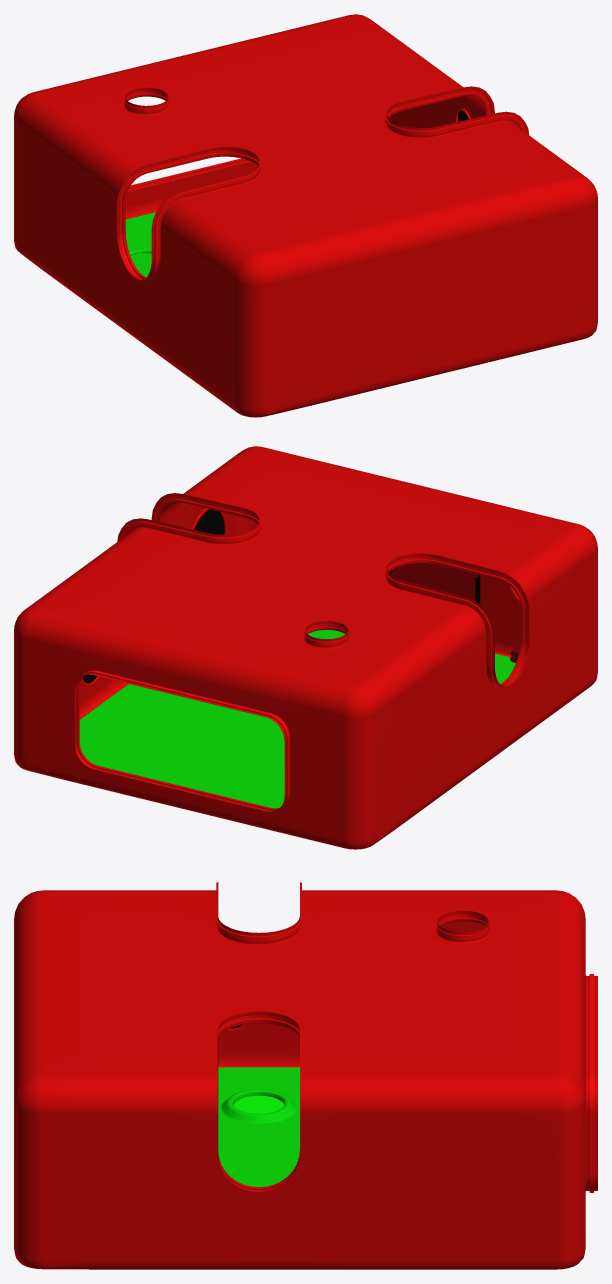
File: Room(noTable)_mesh.fbx
3 renders of one model, top to bottom at view 1: azimuth 30°, elevation 25°; view 2: azimuth 150°, elevation 25°; view 3: azimuth 270°, elevation 25°, orthographic. The views are drawn at different scales.
Visible parts, largest first — view 1: Room_combined_noTable; view 2: Room_combined_noTable; view 3: Room_combined_noTable.
Part boxes in pixels (left/top/right/bottom): Room_combined_noTable: left=14, top=14, right=597, bottom=417; Room_combined_noTable: left=14, top=446, right=597, bottom=849; Room_combined_noTable: left=14, top=882, right=597, bottom=1269.
Bounding box in the file's own units: 9437 × 3990 × 10711.
